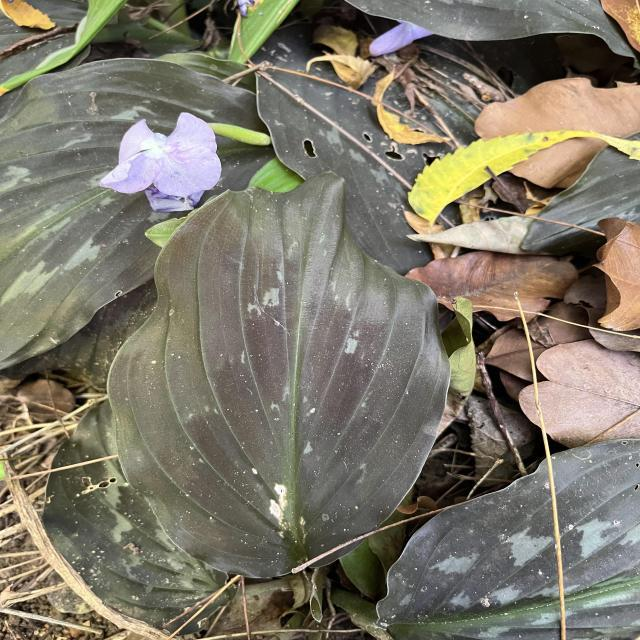Kaempferia galanga linn: (106, 168, 454, 582)
